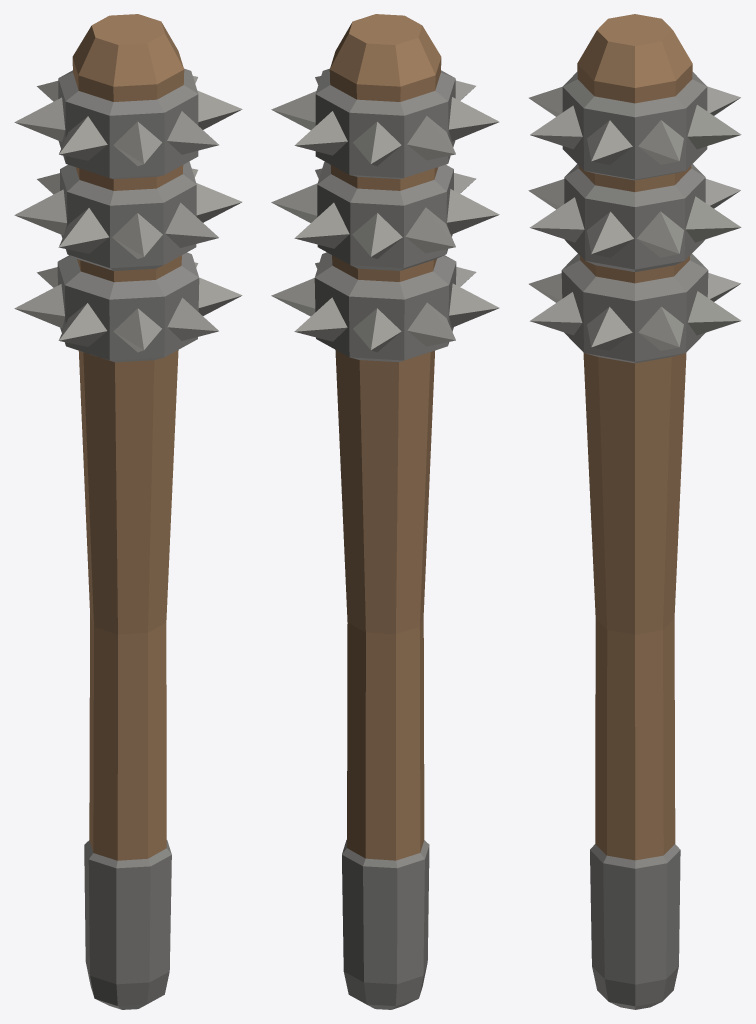
The model's file is SM_pwe_medieval_club_07a.fbx.
The picture shows the model from 3 angles, left to right: view 1: azimuth 30°, elevation 25°; view 2: azimuth 150°, elevation 25°; view 3: azimuth 270°, elevation 25°; orthographic projection.
Visible parts, largest first — view 1: SM_pwe_medieval_club_07a; view 2: SM_pwe_medieval_club_07a; view 3: SM_pwe_medieval_club_07a.
Boxes of the visible parts, left/top/right/bottom form: SM_pwe_medieval_club_07a: left=14, top=14, right=242, bottom=1009; SM_pwe_medieval_club_07a: left=271, top=14, right=499, bottom=1009; SM_pwe_medieval_club_07a: left=528, top=14, right=741, bottom=1009.
Size of the model in its own units: 12.12 by 60.81 by 12.12.
